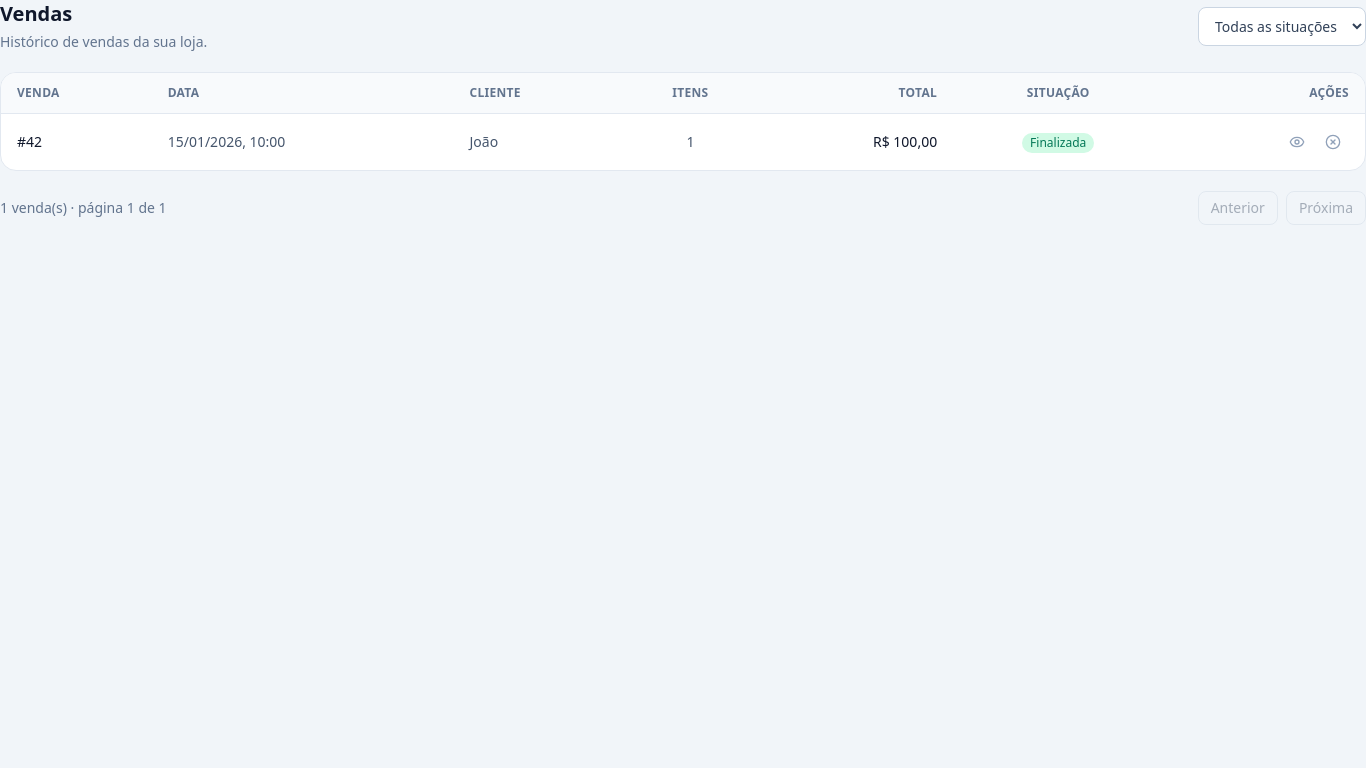
Test: Sales › abre o detalhe da venda ao clicar no ícone de olho
expect the text "#42" is shown: met, box 1,114 -> 152,170
Step 1. Click the 1st button → (1297, 142), box 1281,126 -> 1313,158
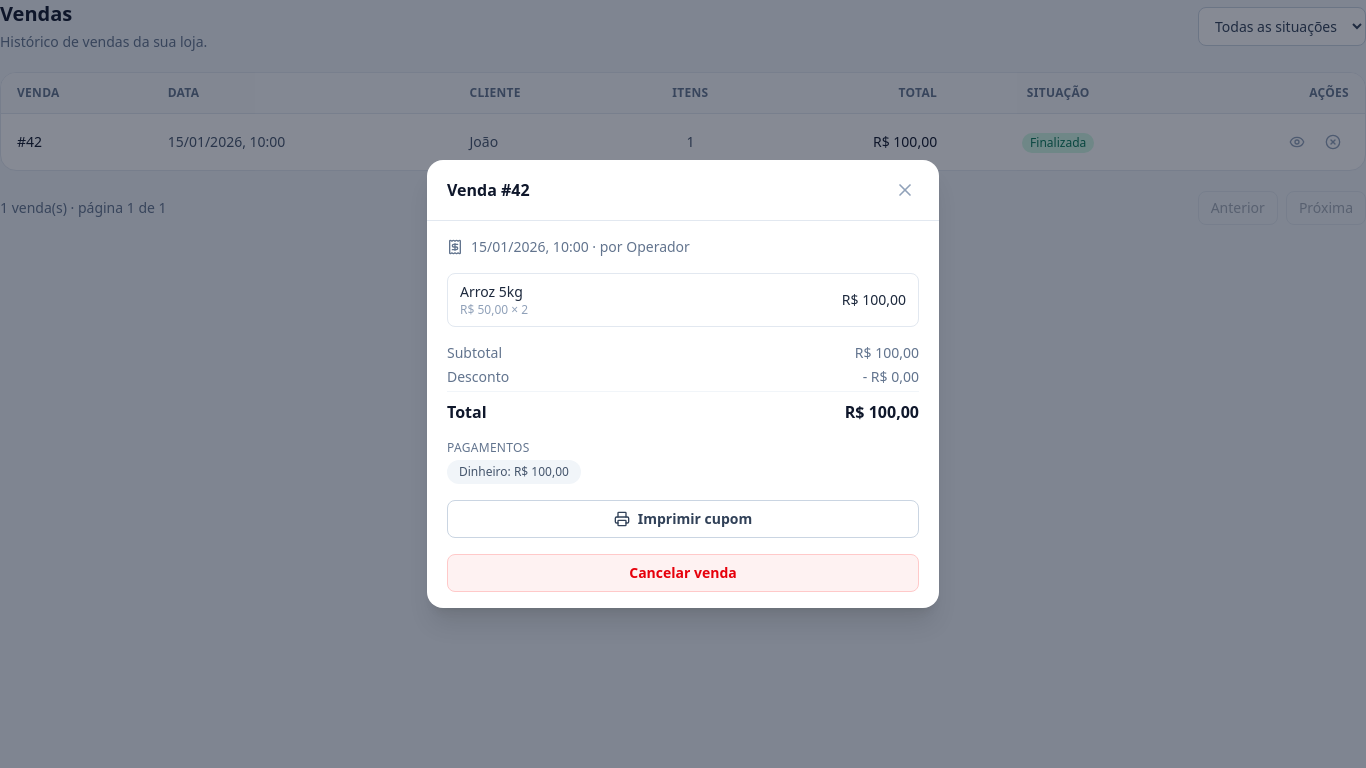
expect the dialog is shown: met, box 427,160 -> 939,608
expect the text "Arroz 5kg" is shown: met, box 460,282 -> 528,302
